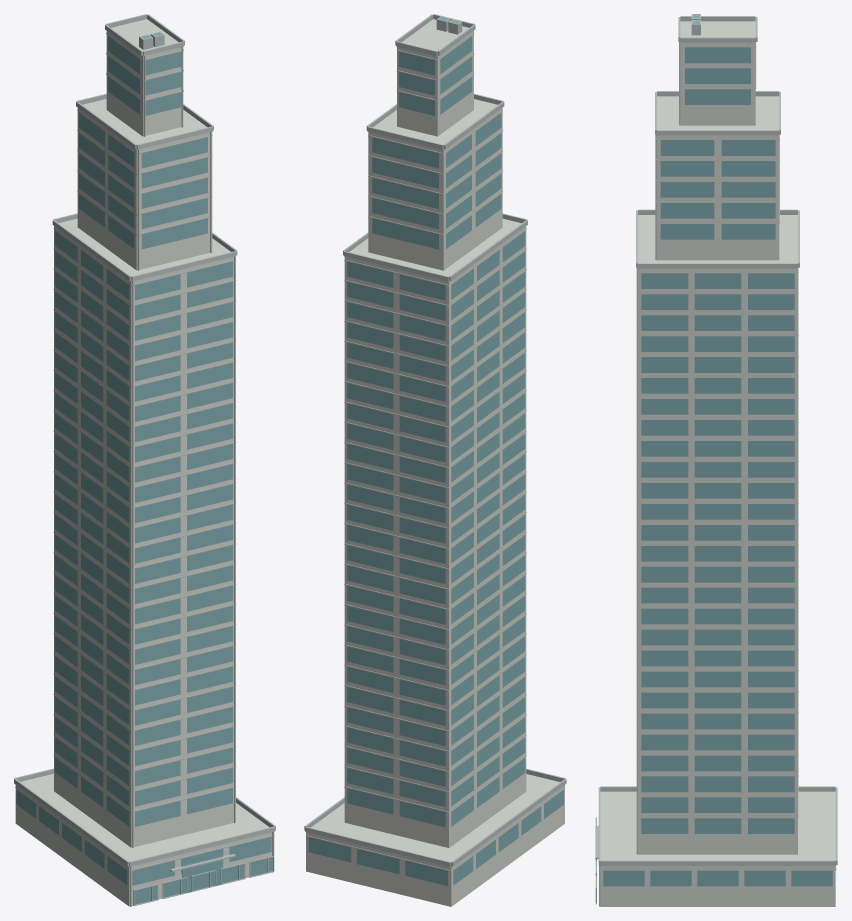
File: commercial_3x4_tower_steps.glb
3 views of the same model, side by side, from view 1: azimuth 30°, elevation 25°; view 2: azimuth 150°, elevation 25°; view 3: azimuth 270°, elevation 25° (orthographic). The views are drawn at different scales.
Parts seen in each view (by area): view 1: commercial_3x4_tower_steps_0; view 2: commercial_3x4_tower_steps_0; view 3: commercial_3x4_tower_steps_0.
Boxes of the visible parts, box(x1,y1,x2,y2) form: commercial_3x4_tower_steps_0: box(14, 14, 275, 906); commercial_3x4_tower_steps_0: box(304, 14, 566, 906); commercial_3x4_tower_steps_0: box(595, 14, 837, 906).
Bounding box in the file's own units: 23 × 122 × 31.4.
